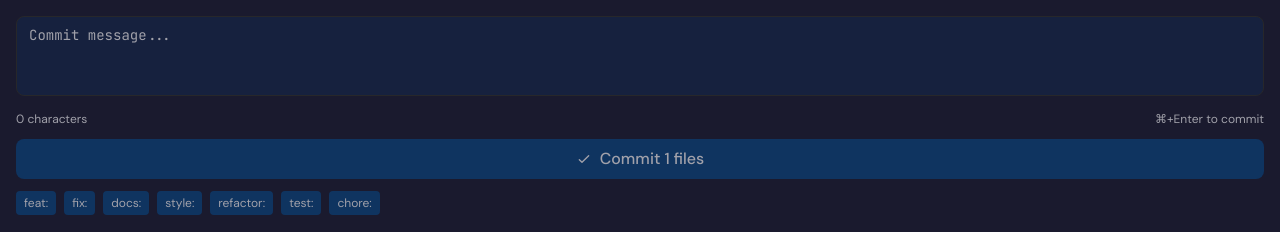
Test: CommitForm › should replace existing prefix when clicking different one
This screenshot has width=1280, height=232.
Type "feat: something" into the text box with placeholder "Commit message...". click: {"x": 640, "y": 56}
box: [16,16,1264,96]
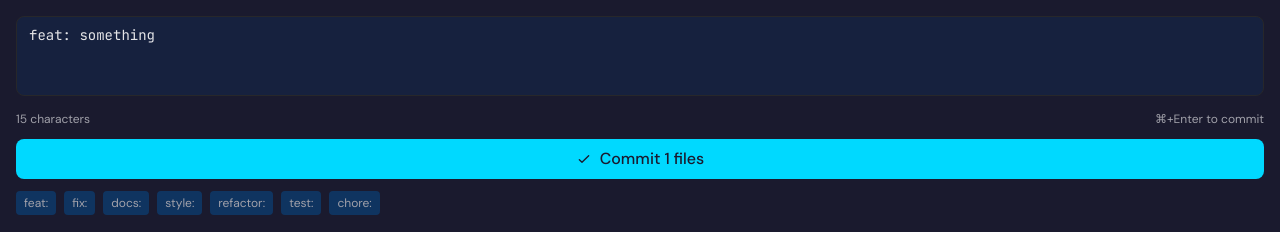
Click the button "fix:". click: {"x": 80, "y": 203}
box: [64,191,95,215]
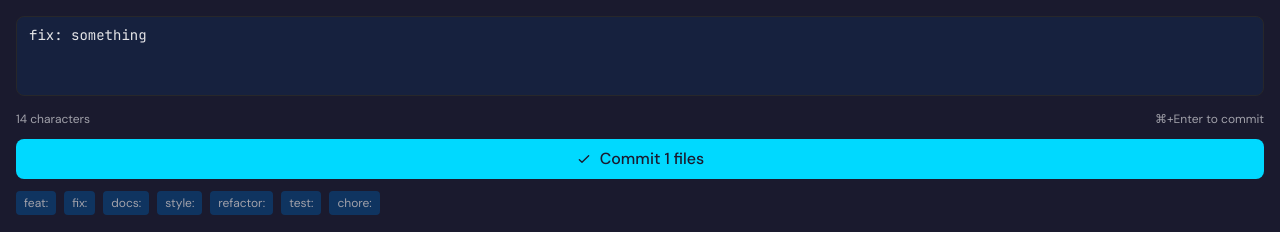
Expected: the text box with placeholder "Commit message..." holds "fix: something", [16,16,1264,96]
